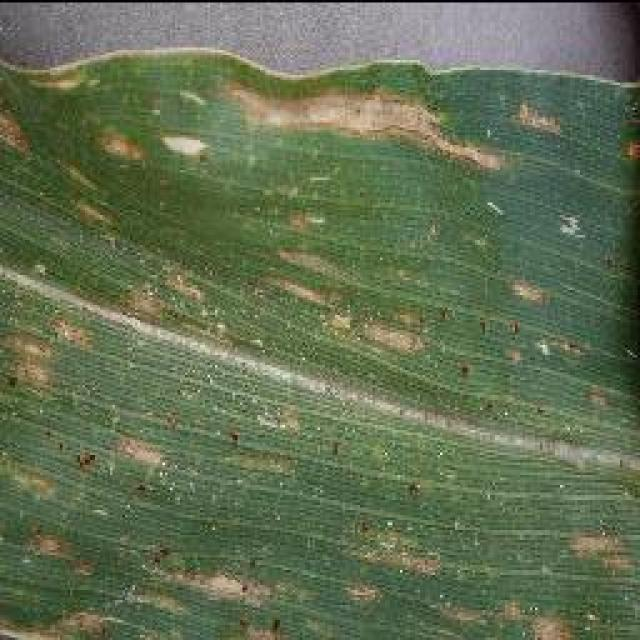Corn_Grey_Leaf_Spot: (12, 67, 639, 640)
